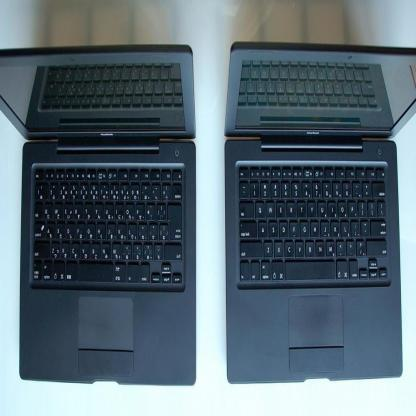board: (8, 10, 203, 371), (224, 47, 416, 383)
